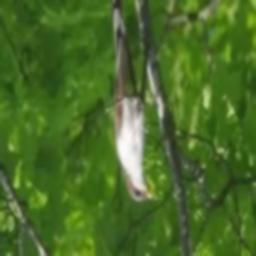Cuckoo: (108, 0, 152, 201)
